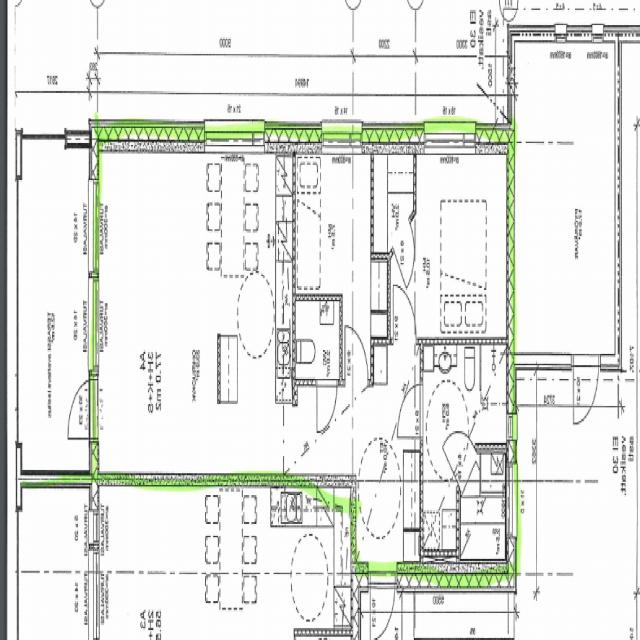door: (442, 409, 476, 490), (63, 378, 99, 441), (392, 218, 422, 288), (394, 284, 416, 346), (345, 326, 368, 384), (398, 385, 424, 436), (317, 379, 337, 432)
